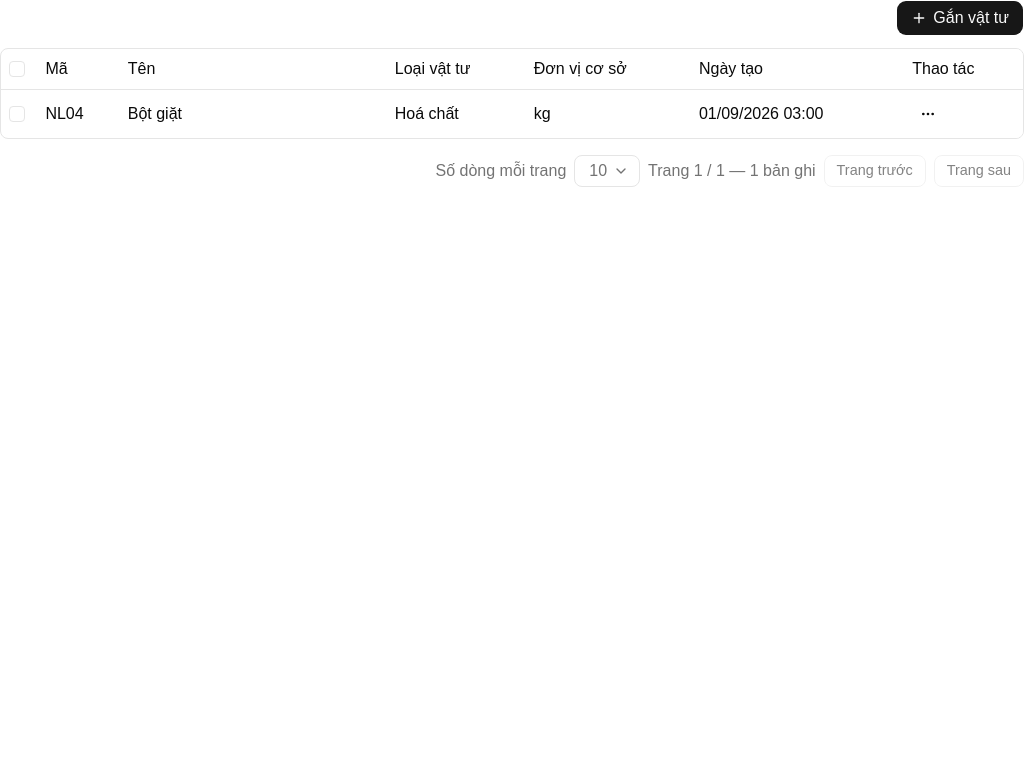
Test: SupplierMaterials › canManage=true → nút Gắn mở hộp gắn; menu ⋯ "Gỡ khỏi nhà cung cấp" mở hộp gỡ một vật tư
The width and height of the screenshot is (1024, 768).
Expected: the text "Bột giặt" is shown, [128,104,182,122]
Click the button "Gắn vật tư": coordinates (960, 18) [896,0,1023,36]
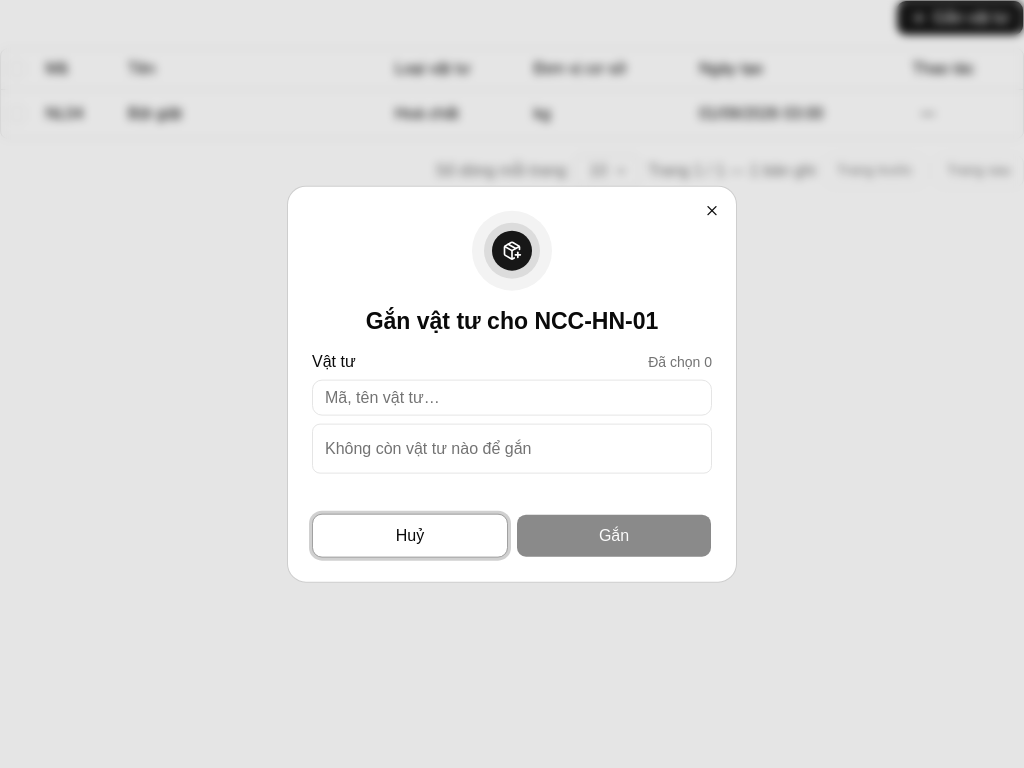
Now the dialog "Gắn vật tư cho NCC-HN-01" is shown, box [288,187,736,581]
Click the button "Huỷ": coordinates (410, 535) [312,513,508,557]
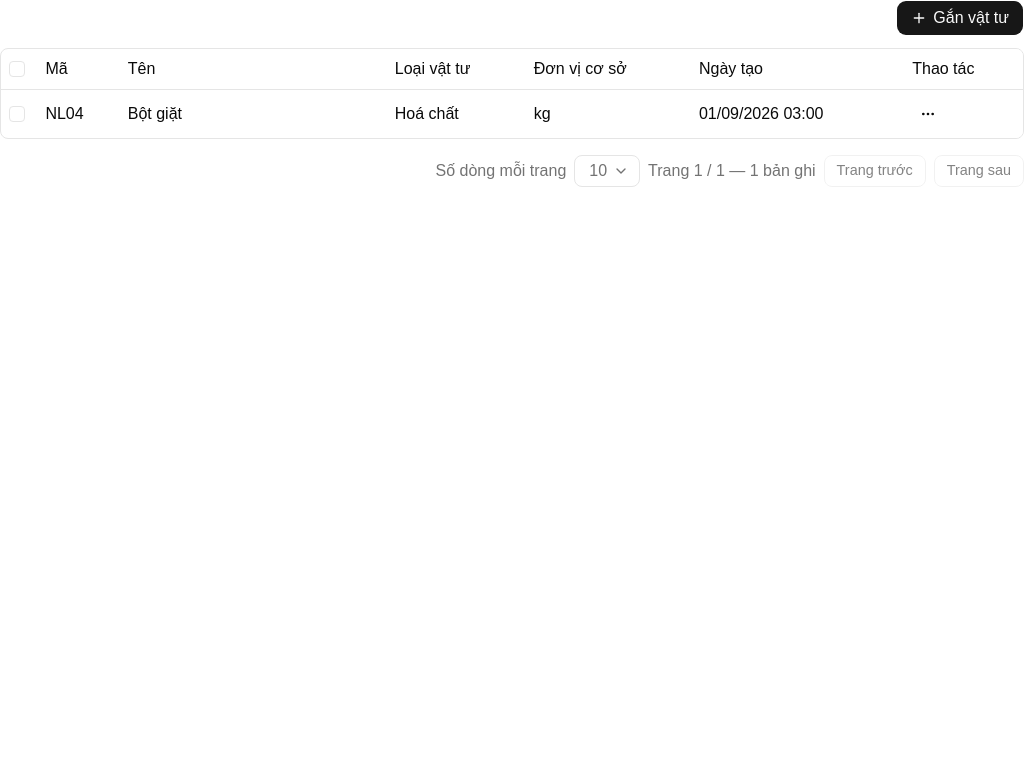
Now the dialog is gone
Click the button named "Thao tác với NL04": coordinates (928, 114) [912,98,944,130]
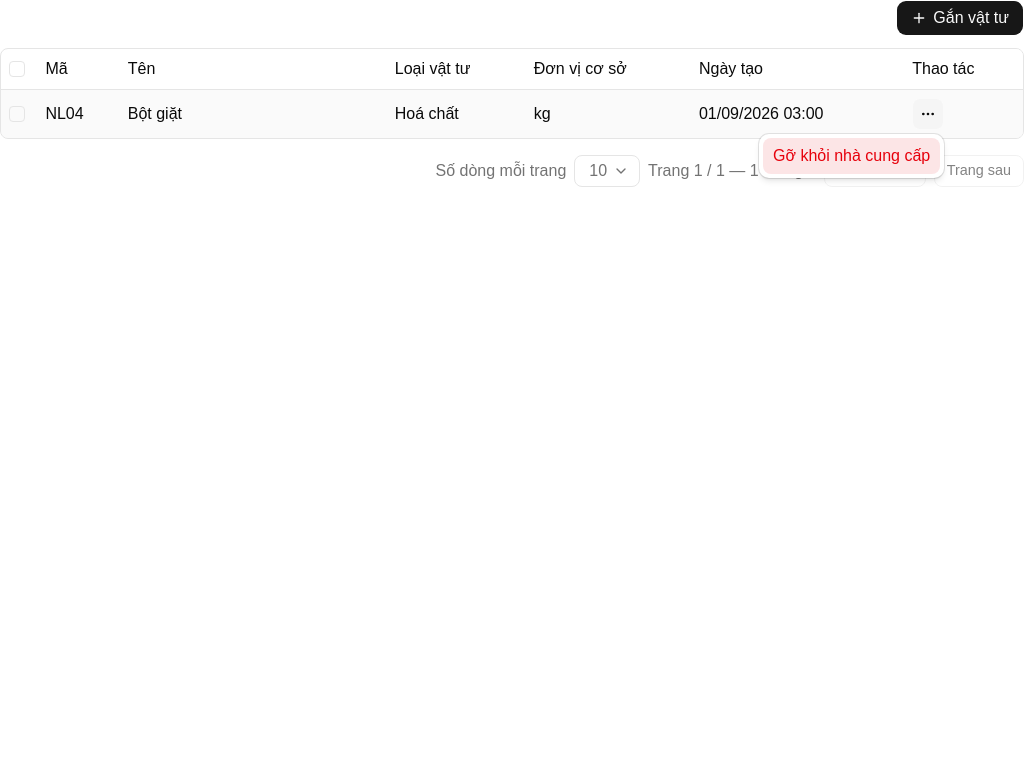
Click the menu item "Gỡ khỏi nhà cung cấp": coordinates (852, 156) [763,138,940,174]
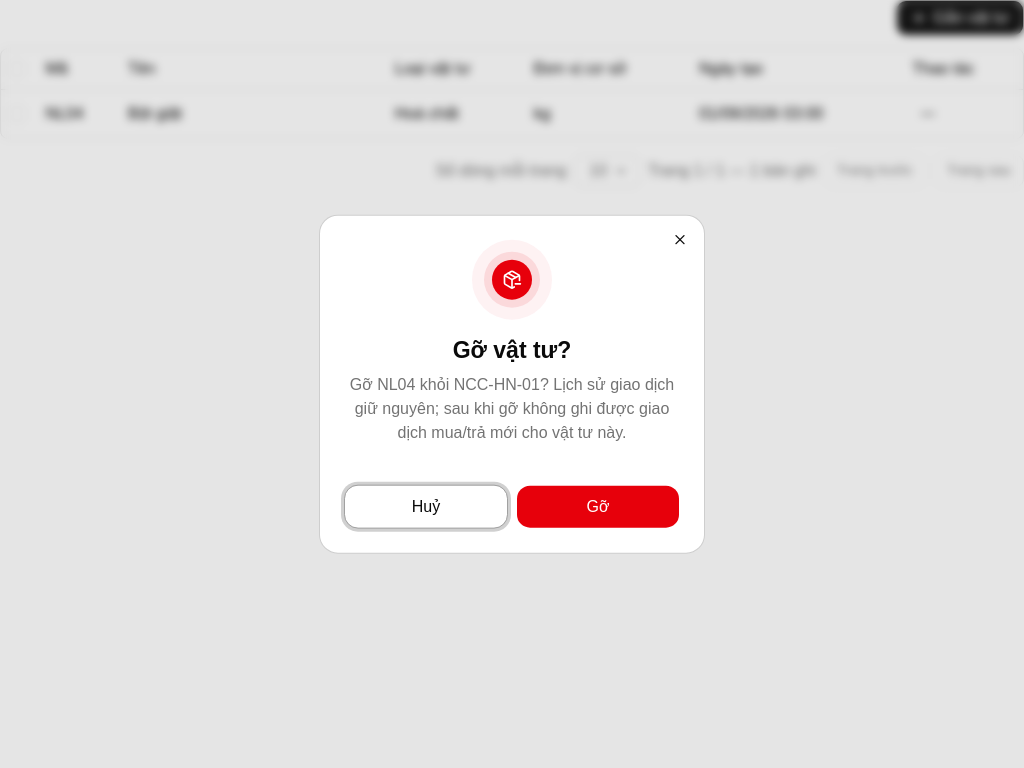
Now the text "NL04" is shown, box [377,375,416,392]
